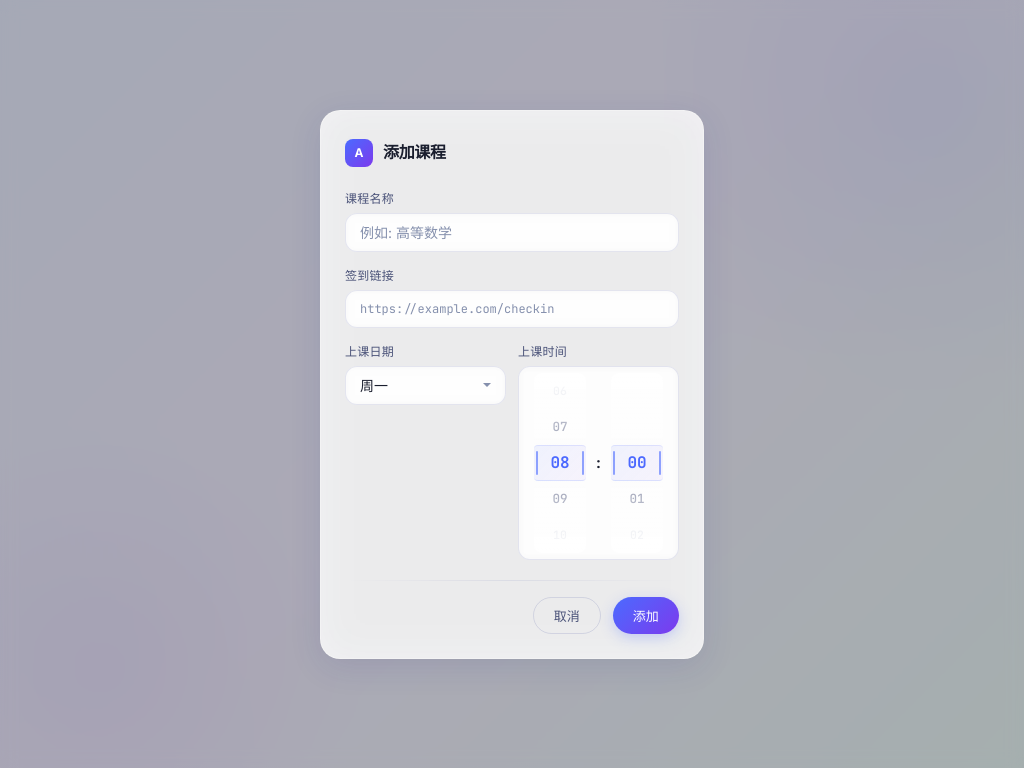
Scenario: CourseForm 组件 › 表单验证 › 课程名称为空时显示错误 "请输入课程名称"
Expected: the field with placeholder "例如: 高等数学" is empty, [345,212,679,252]
// 点击添加按钮触发验证
Click the button "添加". click: (646, 615)
box: [613,596,679,634]
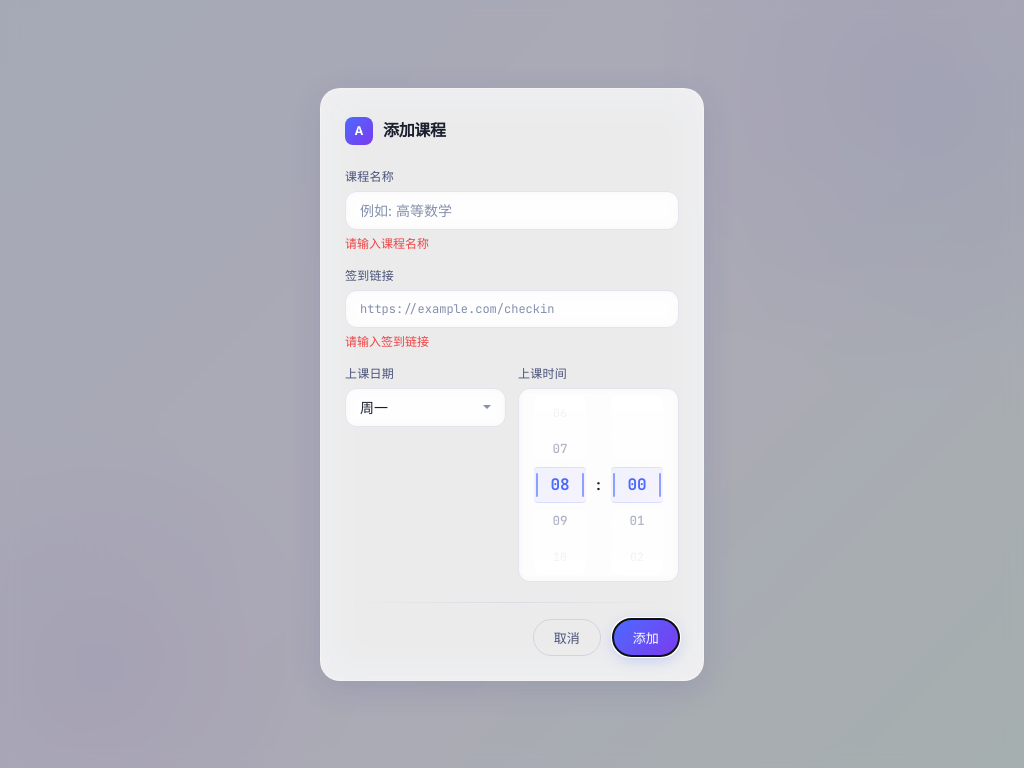
Result: the text "请输入课程名称" is shown at [345,236,429,250]
